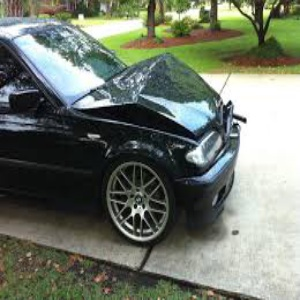bonnet: (120, 62, 206, 130)
